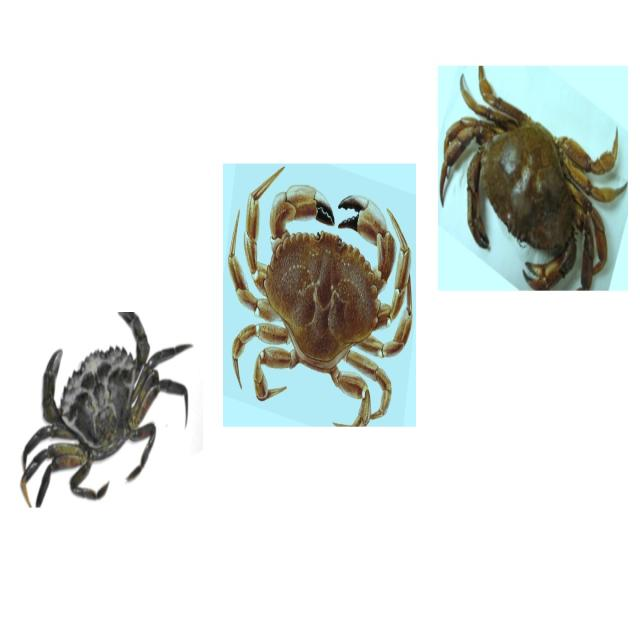egc: (17, 310, 192, 502)
jonah_crab: (224, 164, 417, 430)
rock_crab: (437, 64, 633, 290)
